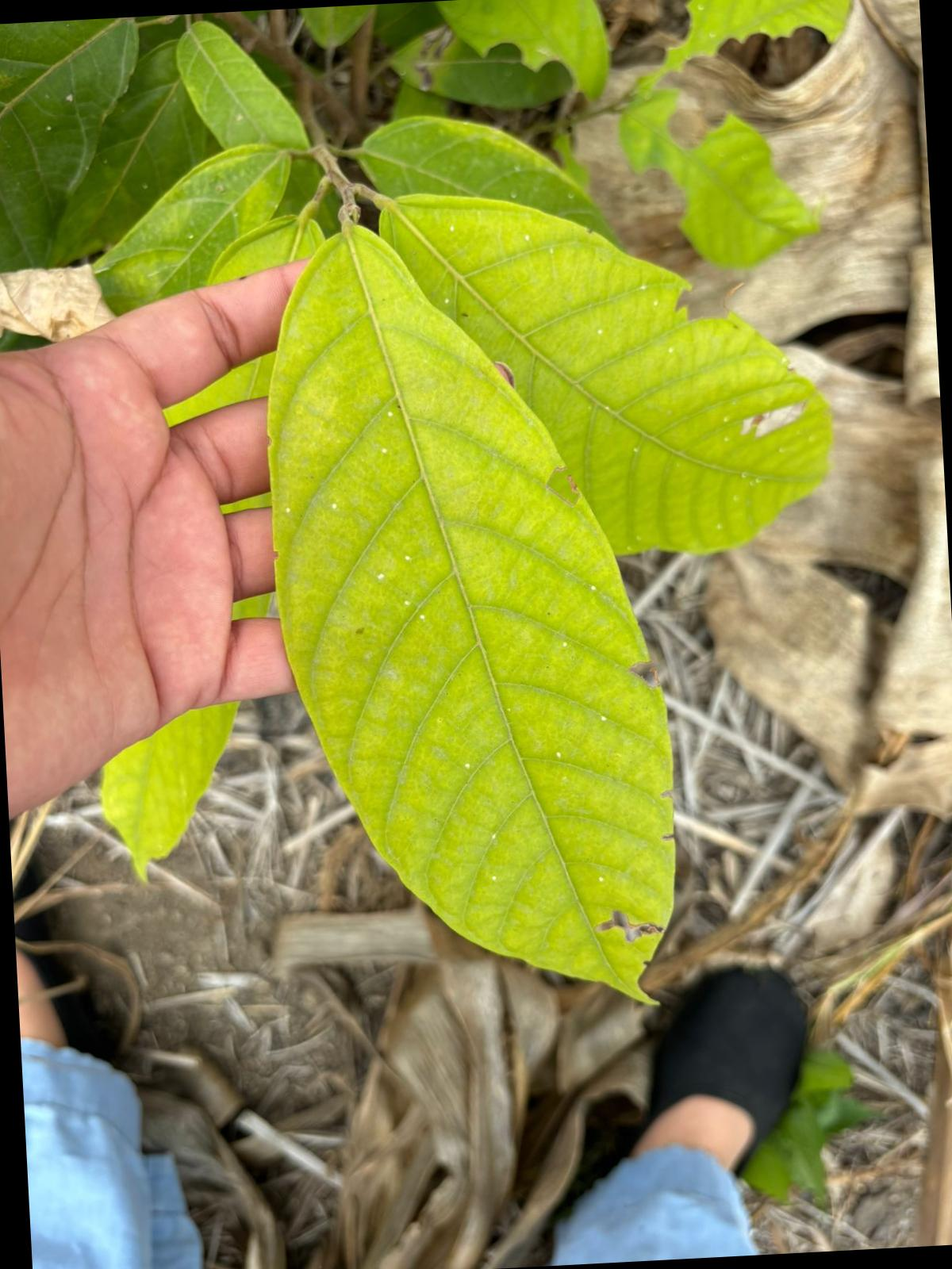Nitrogeno: (270, 223, 674, 998)
